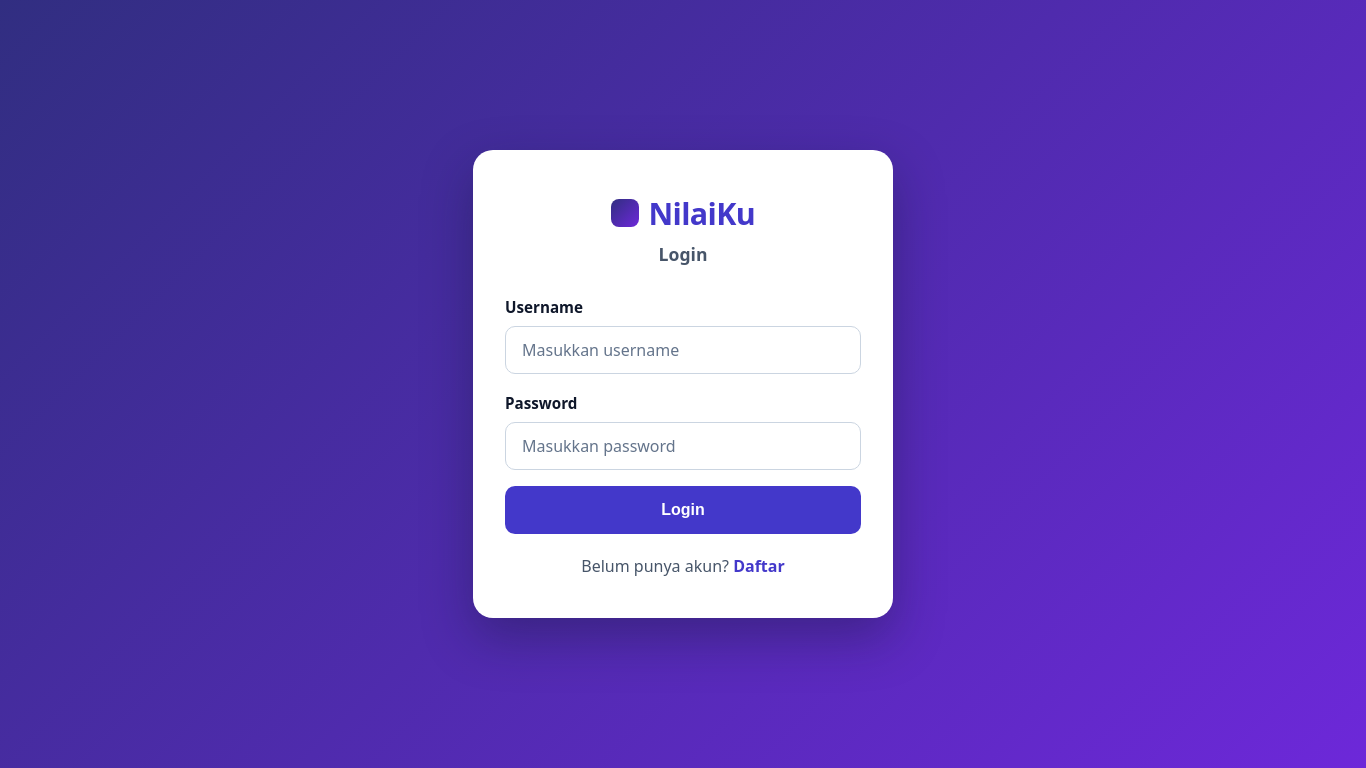
Login › menampilkan pesan error dari server saat login gagal
Type "budi" into the field labelled "Username" at (683, 350), box [505,326,861,374]
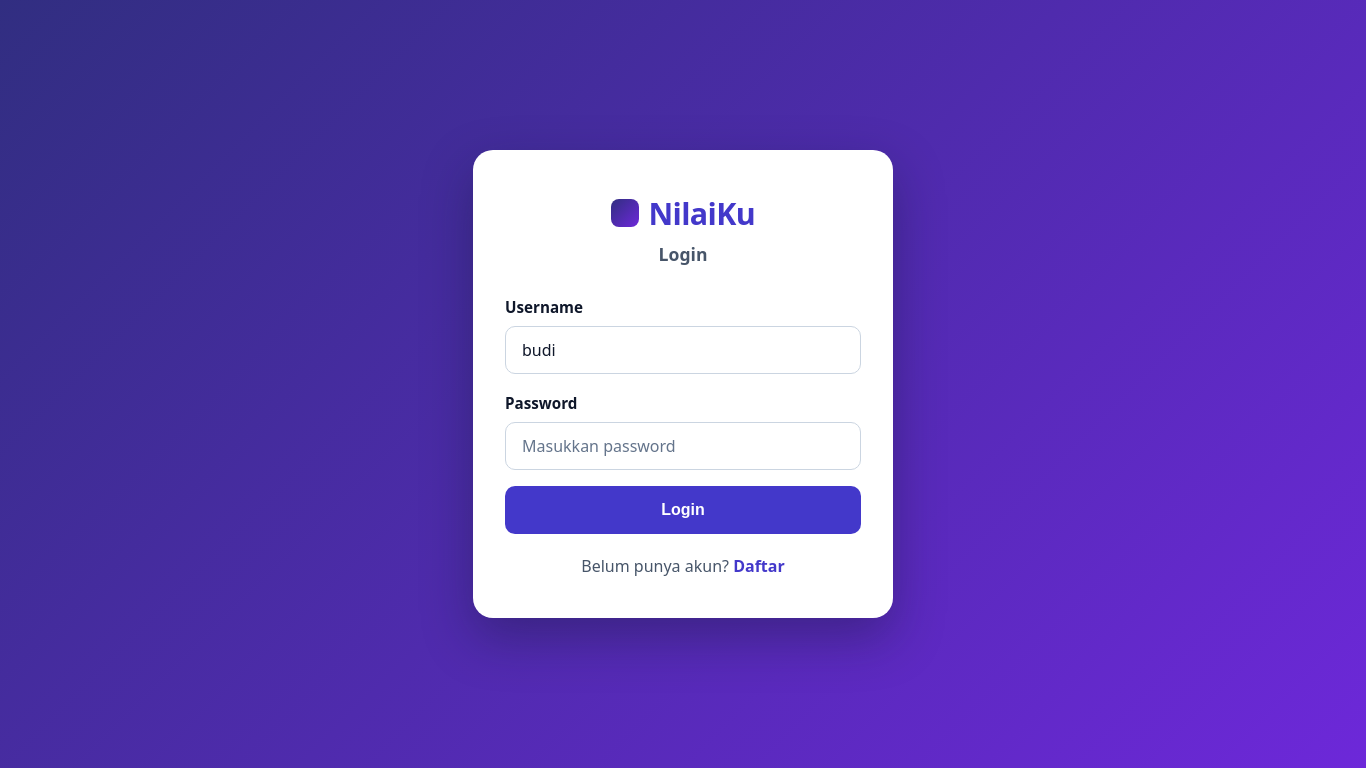
Type "salah" into the password field labelled "Password" at (683, 446), box [505,422,861,470]
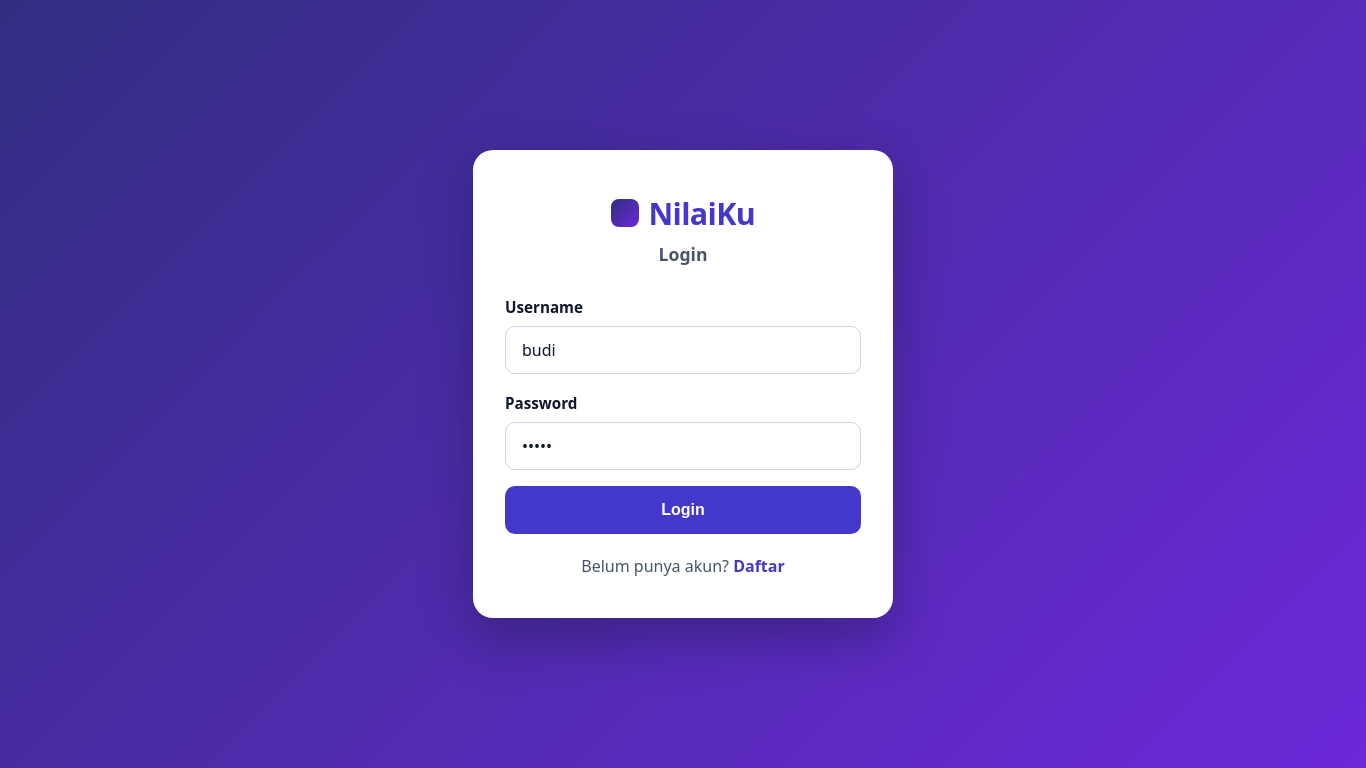
Submit the form "Login", box [505,296,861,534]
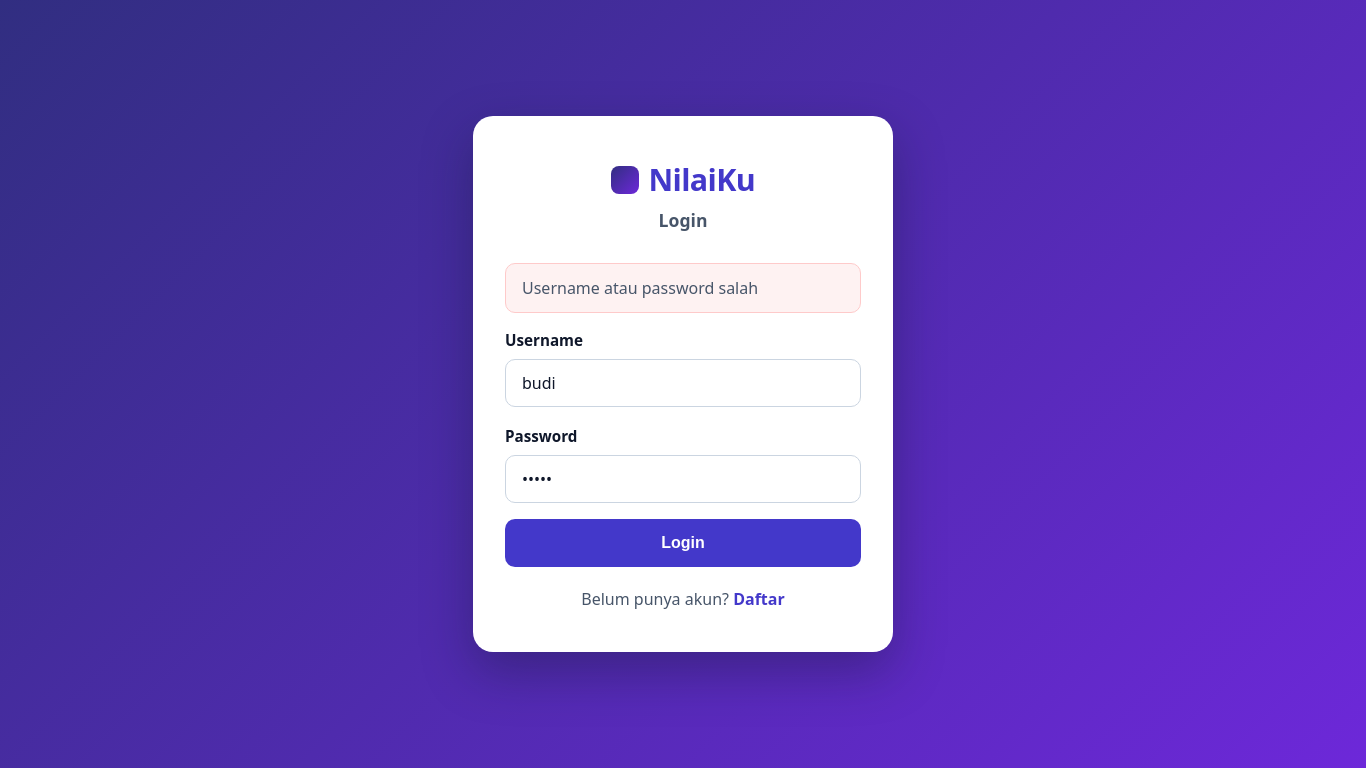
Now the text "Username atau password salah" is shown, box [505,263,861,313]
